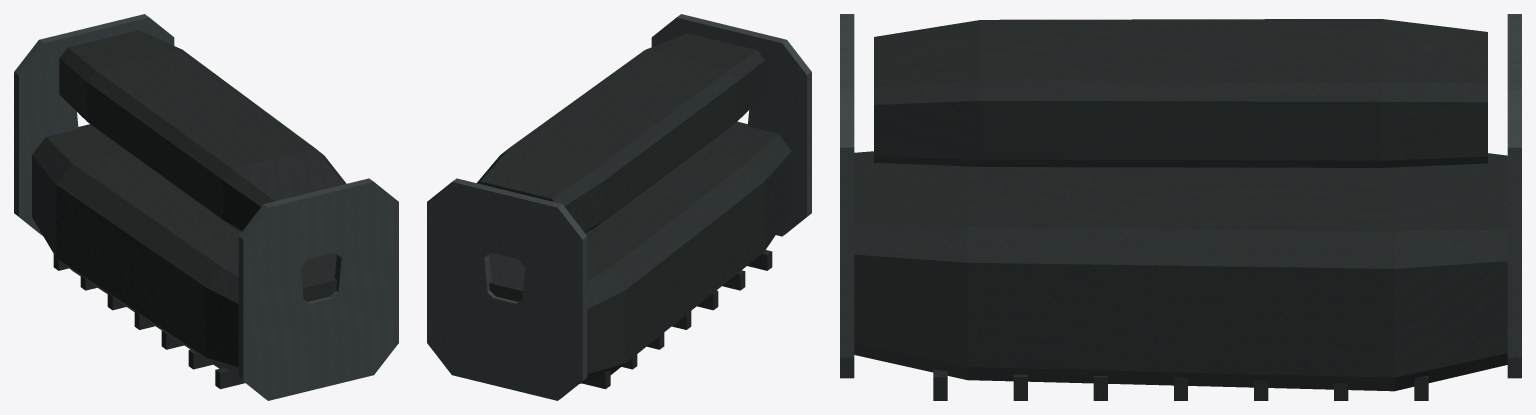
3 renders of one model, left to right at view 1: azimuth 30°, elevation 25°; view 2: azimuth 150°, elevation 25°; view 3: azimuth 270°, elevation 25°, orthographic. The views are drawn at different scales.
Parts seen in each view (by area): view 1: ak_poly_lower_palm_shell, ak_poly_retaining_band; view 2: ak_poly_lower_palm_shell, ak_poly_retaining_band; view 3: ak_poly_lower_palm_shell, ak_poly_retaining_band.
Boxes of the visible parts, bbox=[...] form: ak_poly_lower_palm_shell: bbox=[32, 30, 346, 389]; ak_poly_retaining_band: bbox=[14, 14, 398, 400]; ak_poly_lower_palm_shell: bbox=[477, 33, 791, 389]; ak_poly_retaining_band: bbox=[427, 14, 811, 400]; ak_poly_lower_palm_shell: bbox=[854, 19, 1507, 400]; ak_poly_retaining_band: bbox=[840, 14, 1521, 378].
Bounding box in the file's own units: 0.113 × 0.139 × 0.286.
2 materials, 2 textured.
